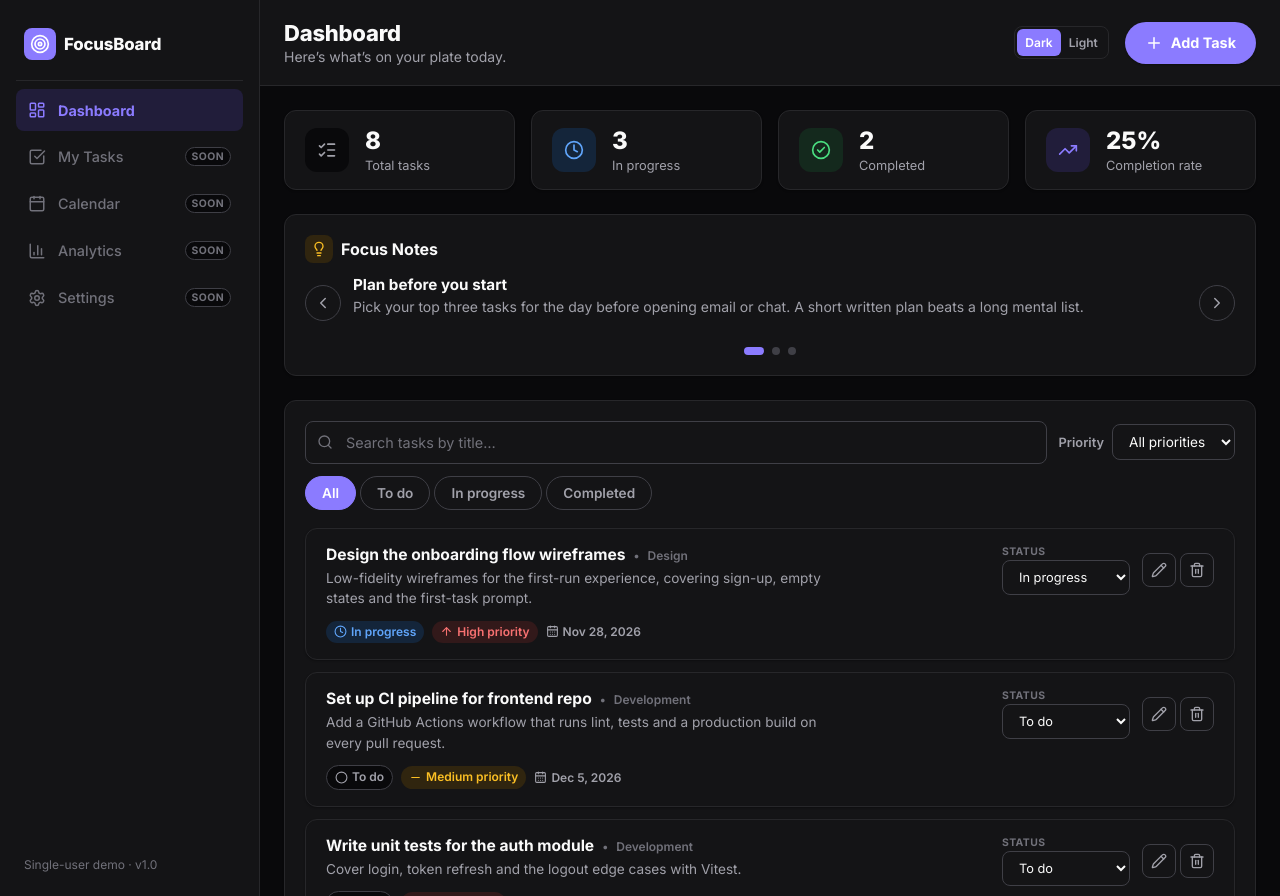
Test case: FocusBoard App › rejects an empty title when creating a task and does not add it
Click the button "Add Task" at [1190, 42], box [1125,22,1256,64]
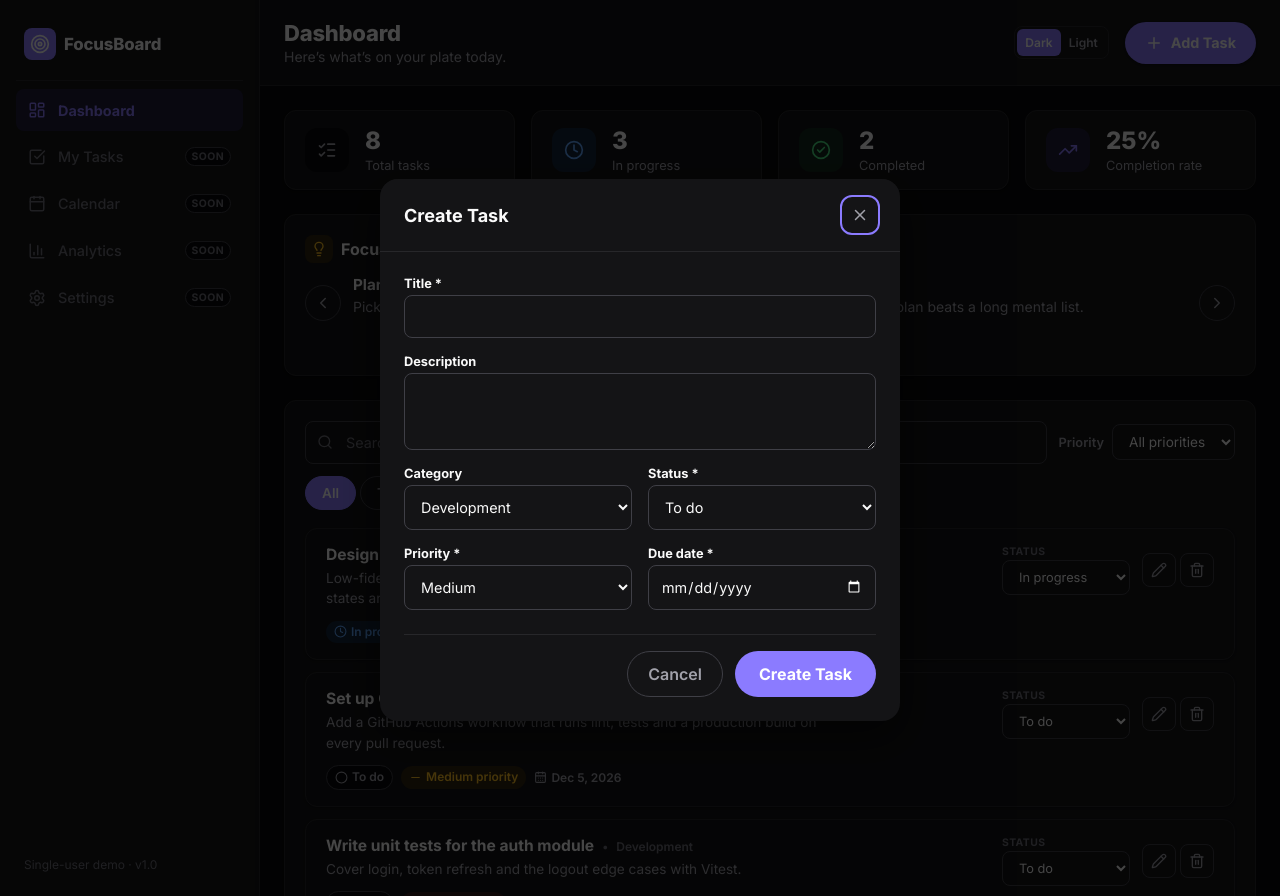
Click the button "Create Task" at [806, 674], box [735,651,876,697]
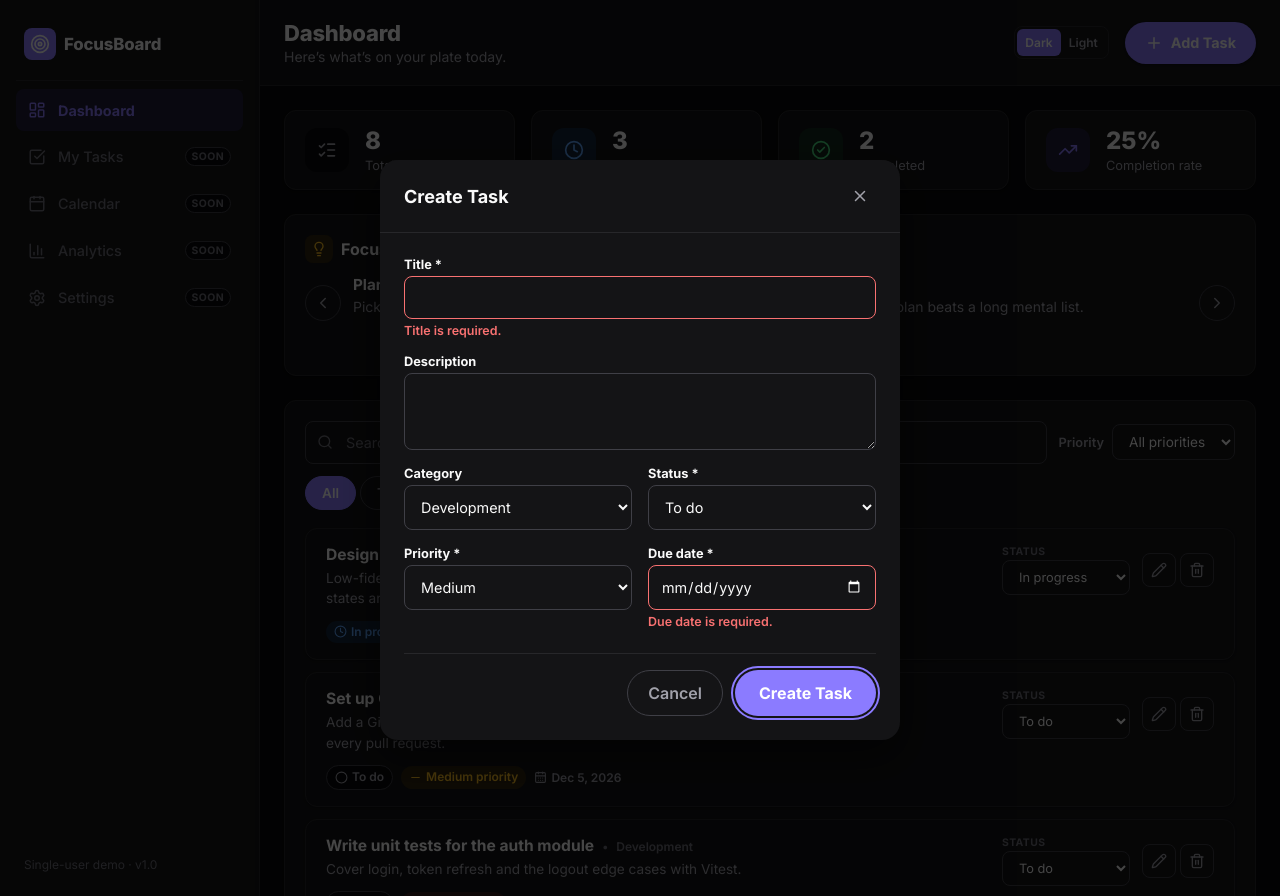
Result: the text "Title is required." is shown at [404,323,502,338]
